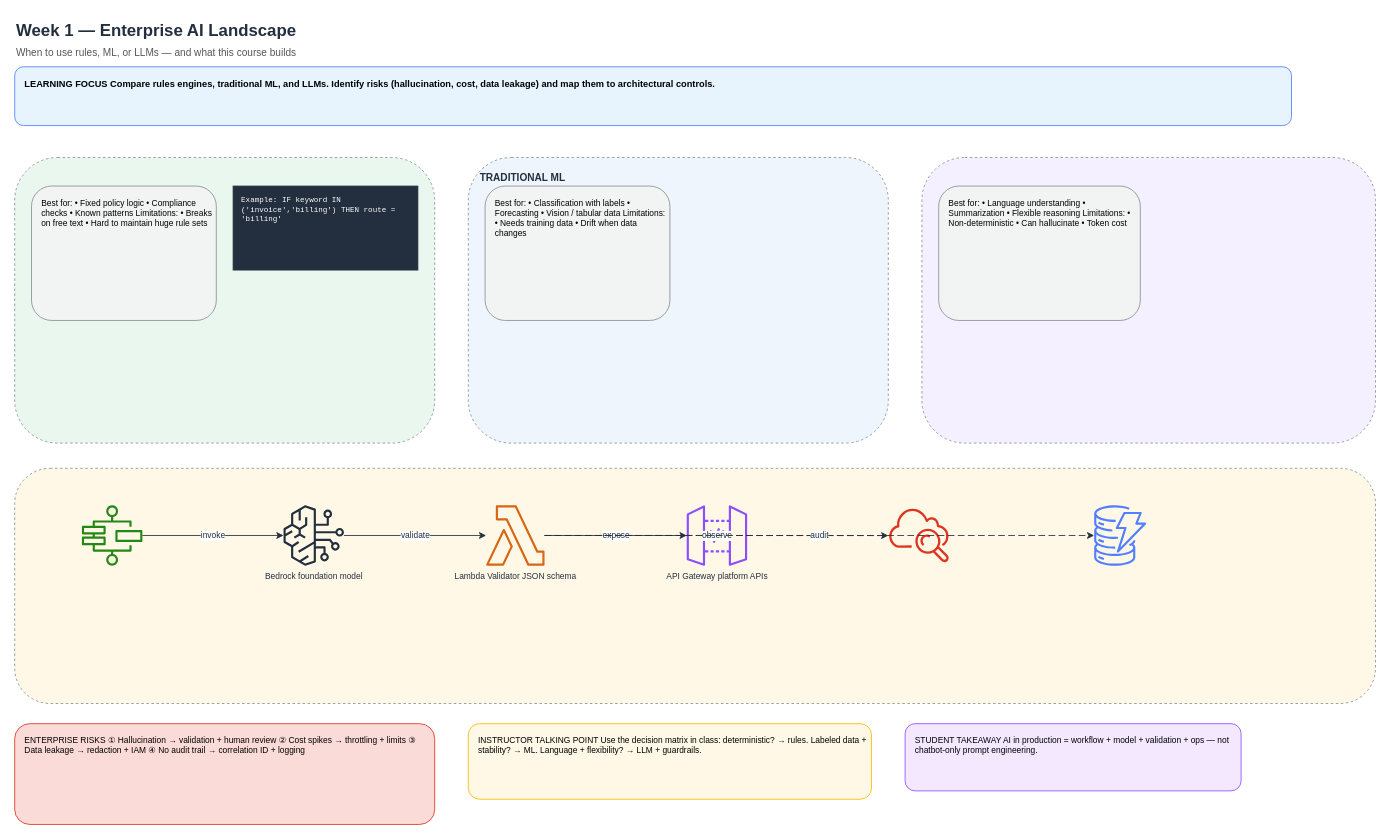
Some shapes in this 1390 by 839 pixel diagram are drawn without their labels. The box of each missing label's shape, as (x1, y1, x2, y2) in pixels:
CloudWatch ops: (887, 504, 949, 566)
DynamoDB Audit governance: (1089, 504, 1150, 566)
LARGE LANGUAGE MODELS: (921, 157, 1376, 443)
RULES ENGINE: (14, 157, 435, 443)
Step Functions orchestration: (81, 504, 142, 566)
THIS COURSE — Production AI Automation Platform: (14, 467, 1376, 704)
